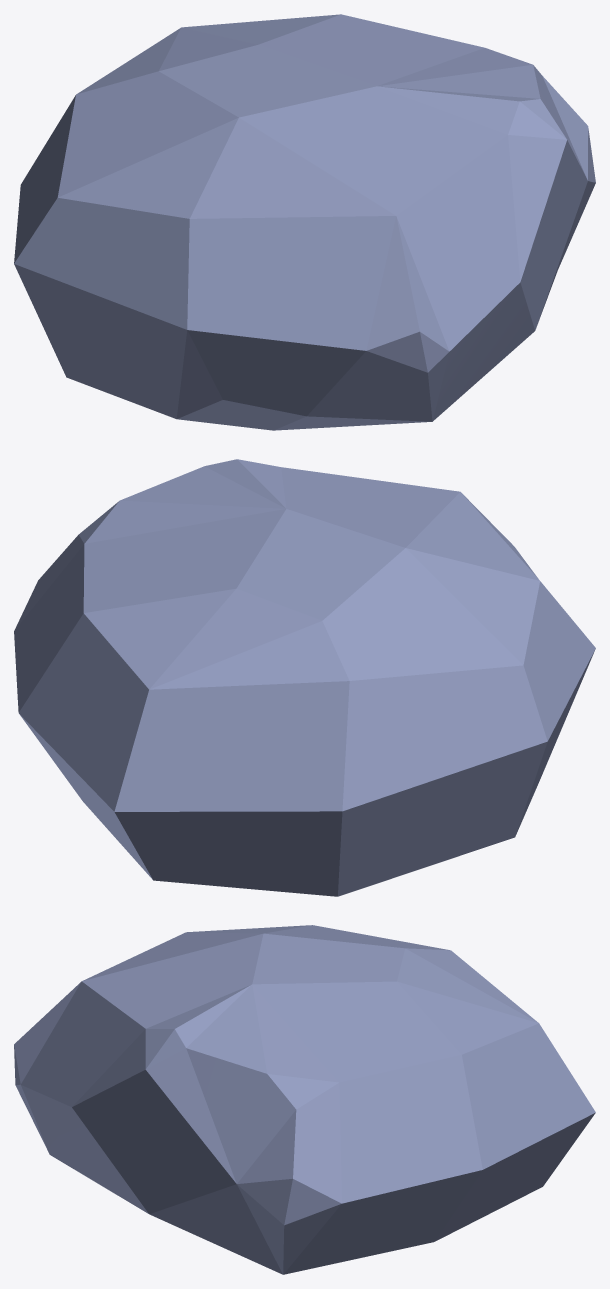
The model's file is Stone_10.fbx.
3 views of the same model, one above another, from view 1: azimuth 30°, elevation 25°; view 2: azimuth 150°, elevation 25°; view 3: azimuth 270°, elevation 25° (orthographic). The views are drawn at different scales.
Parts seen in each view (by area): view 1: Stone_10; view 2: Stone_10; view 3: Stone_10.
Boxes of the visible parts, left/top/right/bottom form: Stone_10: left=14, top=14, right=595, bottom=430; Stone_10: left=14, top=459, right=595, bottom=896; Stone_10: left=14, top=925, right=595, bottom=1274.
Size of the model in its own units: 1.45 by 0.6995 by 1.55.
